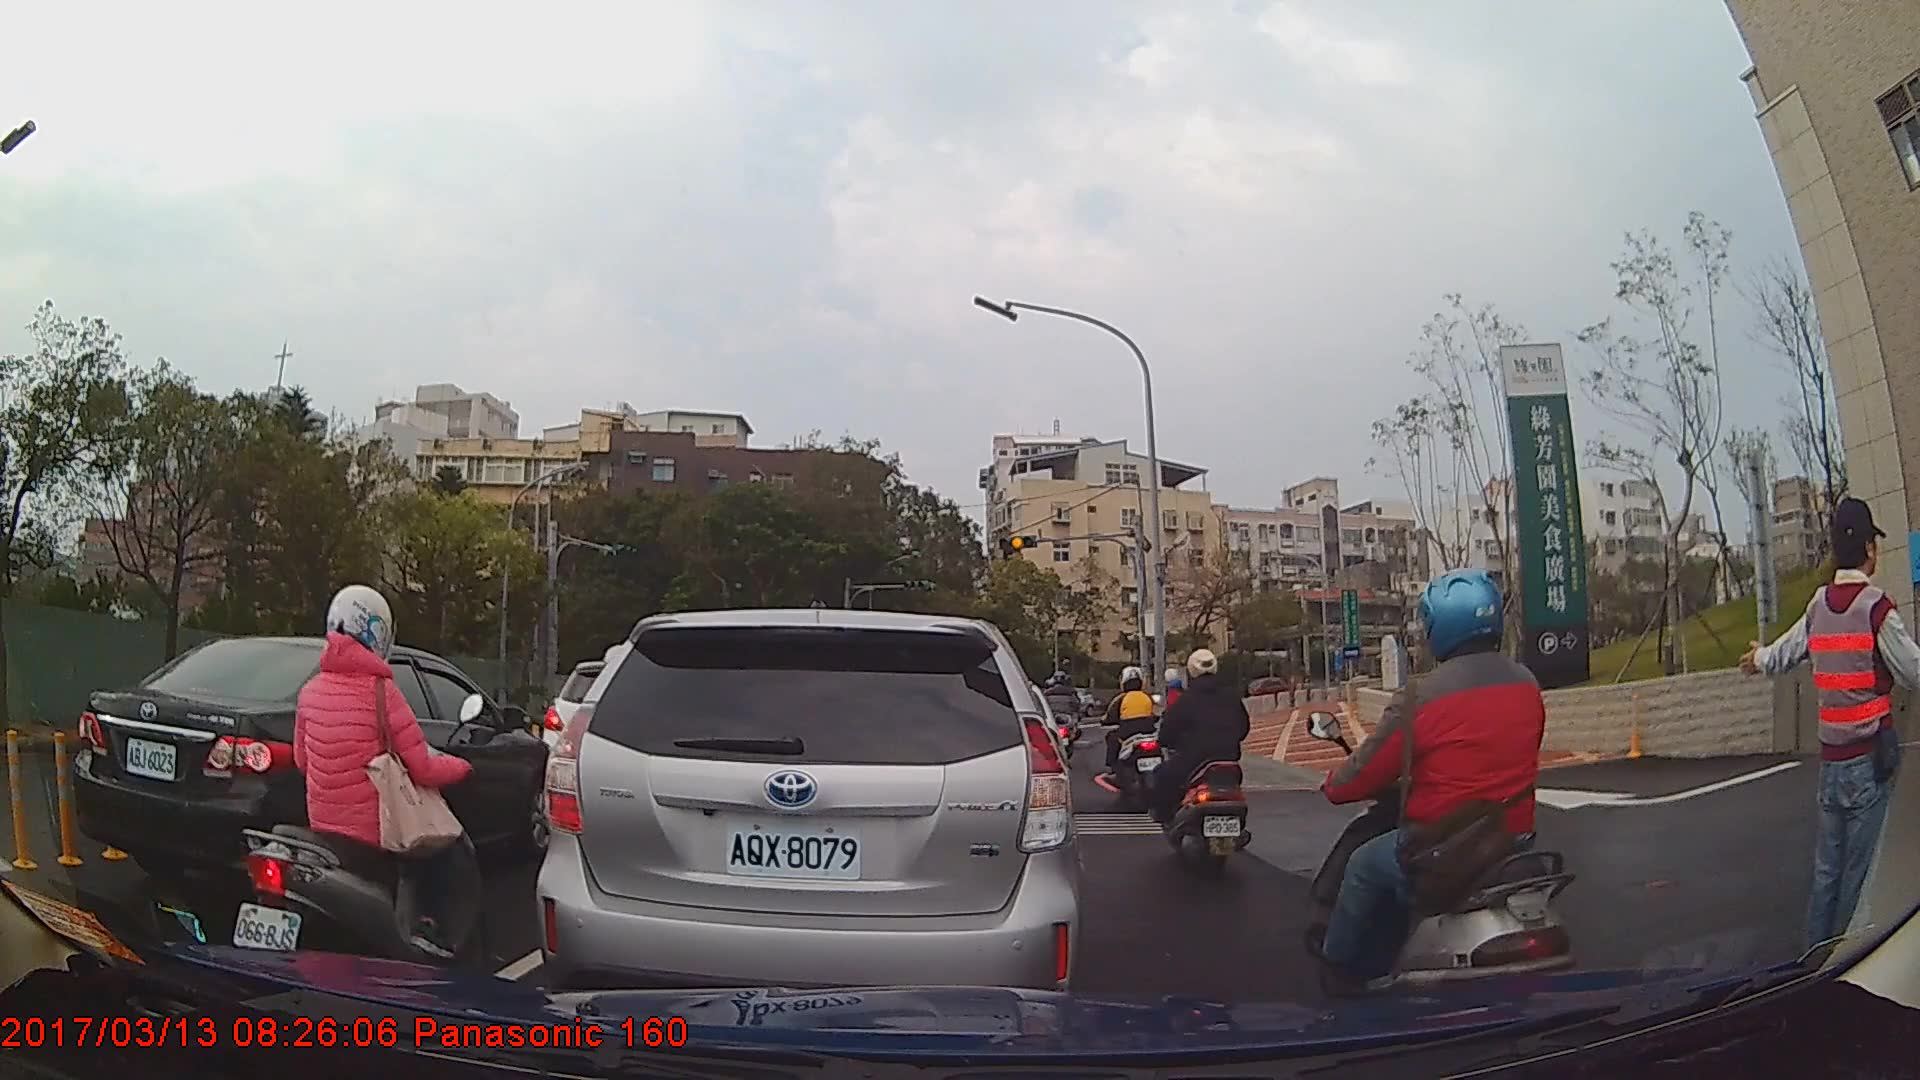pedestrian: (1740, 497, 1920, 979)
rider: (1299, 568, 1594, 1029), (235, 583, 494, 1013), (1149, 647, 1253, 878), (1102, 664, 1170, 813), (1041, 671, 1083, 763)
vehicle: (533, 609, 1080, 1021), (75, 634, 563, 911), (1234, 673, 1299, 710)
